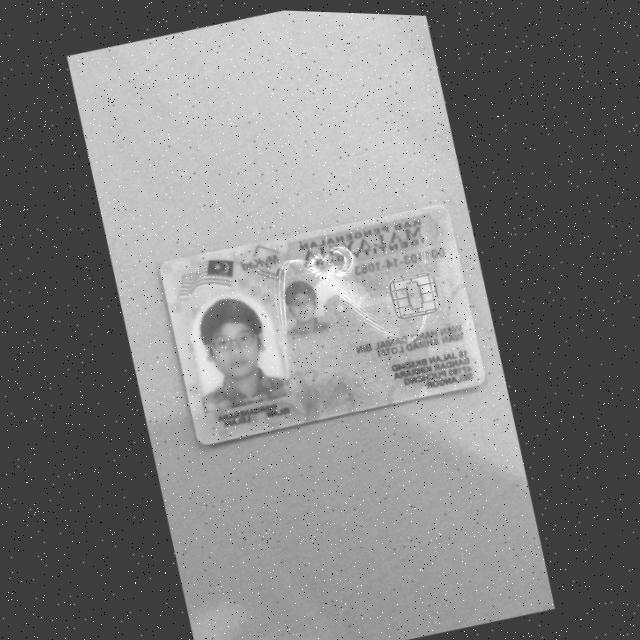card: (160, 207, 483, 444)
